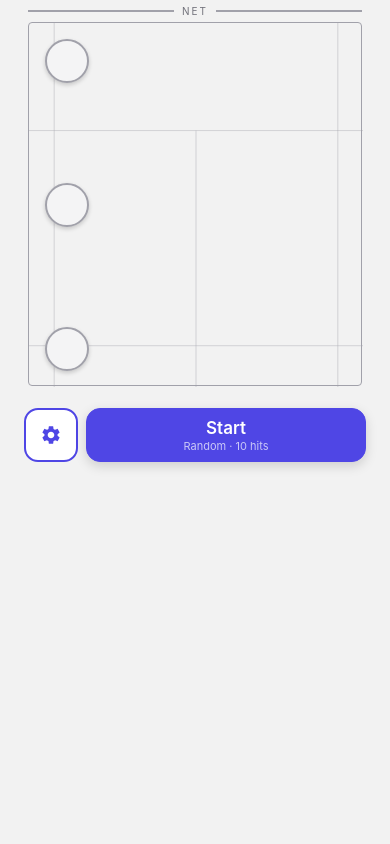
it: an aborted run with no attempts is not logged
Click the text "Start": (226, 428) [206, 418, 246, 438]
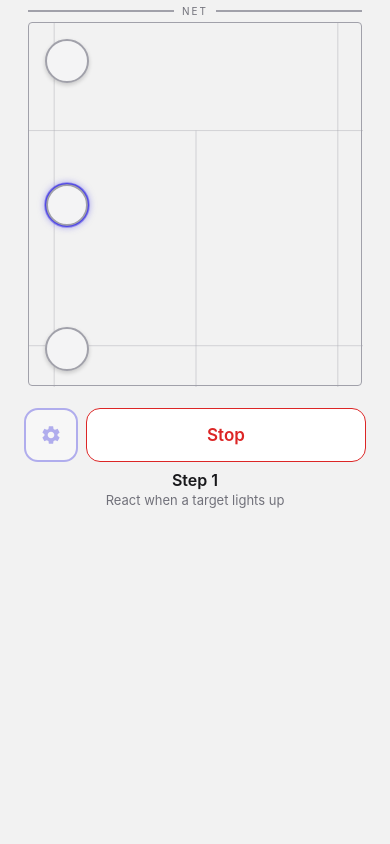
Click the button "Stop": (226, 435) [86, 408, 366, 462]
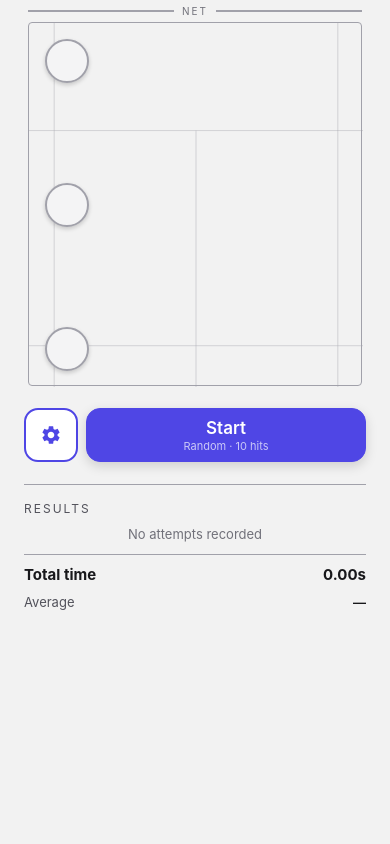
Now the element with test id "stats-panel" is shown, box [24, 484, 366, 610]
